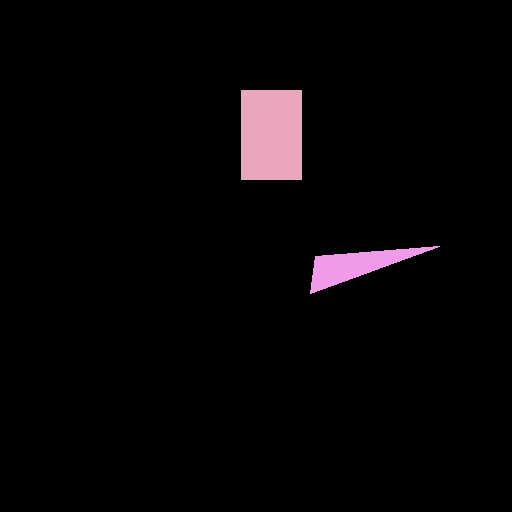rectangle: (241, 90, 301, 179)
triangle: (310, 246, 439, 293)
